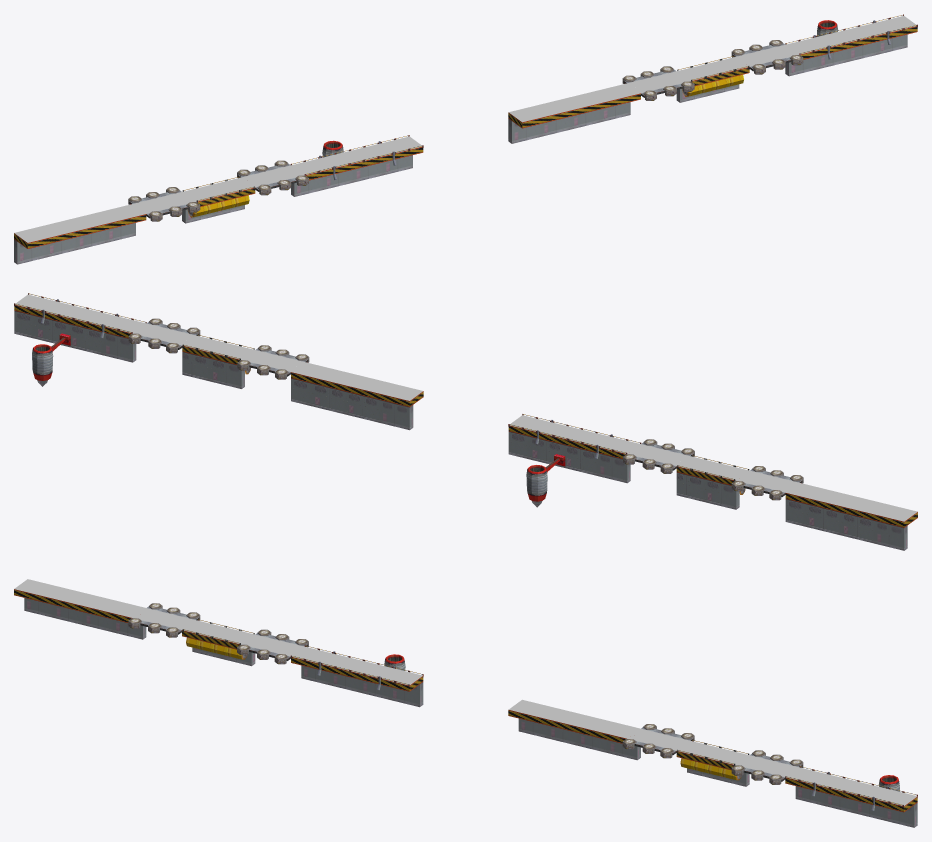
The model's file is Emperor27.obj.
The picture shows the model from 3 angles, top to bottom: view 1: azimuth 30°, elevation 25°; view 2: azimuth 150°, elevation 25°; view 3: azimuth 330°, elevation 25°; orthographic projection.
Parts seen in each view (by area): view 1: obj1, obj2, Object_2; view 2: obj1, obj2, Object_2; view 3: obj1, obj2, Object_2.
Part boxes in pixels (bbox=[...]): obj1: bbox=[14, 14, 917, 264]; obj2: bbox=[14, 16, 916, 242]; Object_2: bbox=[138, 47, 793, 210]; obj1: bbox=[14, 293, 917, 550]; obj2: bbox=[15, 294, 917, 521]; Object_2: bbox=[138, 326, 793, 489]; obj1: bbox=[14, 589, 917, 827]; obj2: bbox=[14, 579, 917, 805]; Object_2: bbox=[138, 611, 792, 774].
Bounding box in the file's own units: 4500 × 261 × 439.
